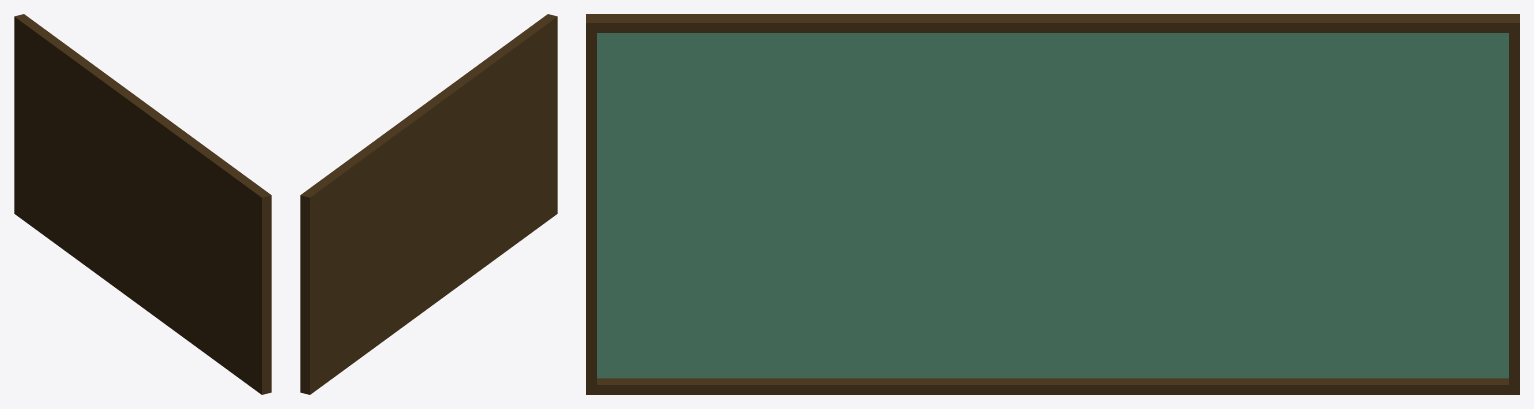
Rendered from Chalkboard.fbx.
The picture shows the model from 3 angles, left to right: view 1: azimuth 30°, elevation 25°; view 2: azimuth 150°, elevation 25°; view 3: azimuth 270°, elevation 25°; orthographic projection. The views are drawn at different scales.
Visible parts, largest first — view 1: Chalkboard; view 2: Chalkboard; view 3: Chalkboard.
Part boxes in pixels (bbox=[...]): Chalkboard: bbox=[14, 14, 271, 394]; Chalkboard: bbox=[300, 14, 557, 394]; Chalkboard: bbox=[586, 14, 1519, 394].
Bounding box in the file's own units: 49.4 × 939 × 2137.
